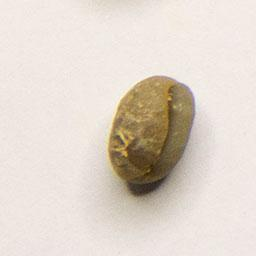peaberry: (105, 72, 197, 188)
